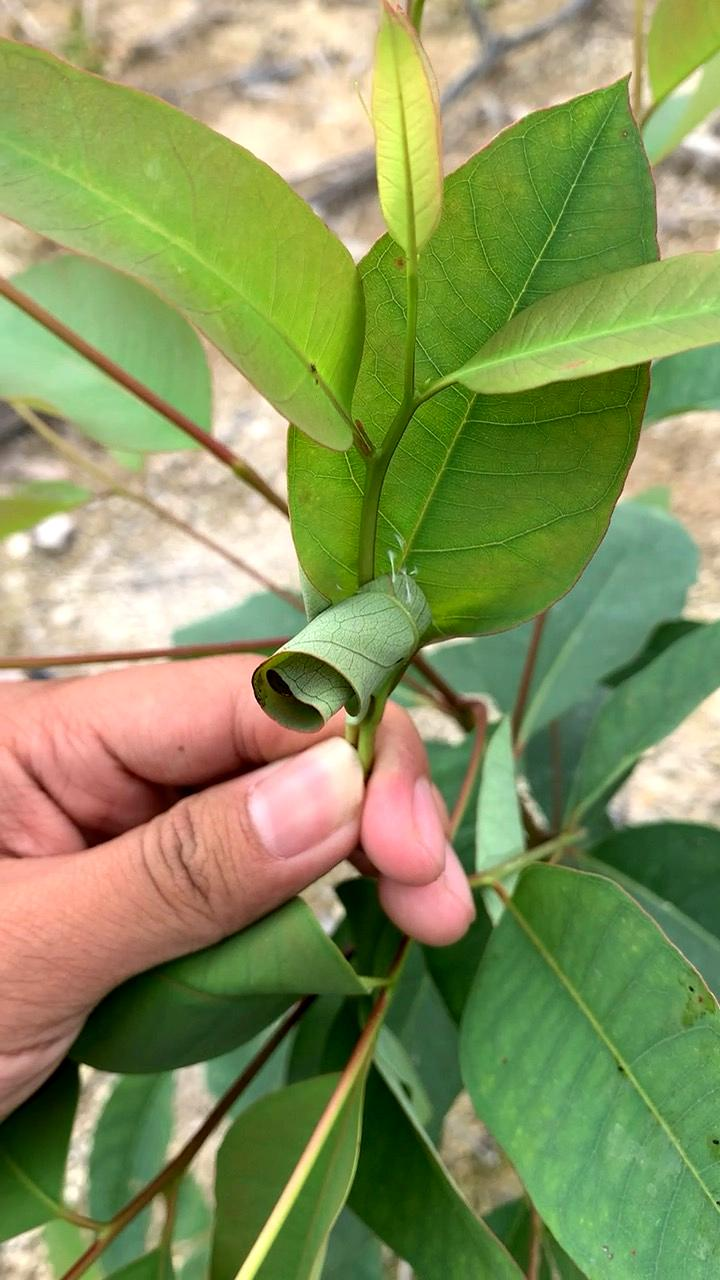Leaf Roller - Leaf: (223, 540, 493, 758)
